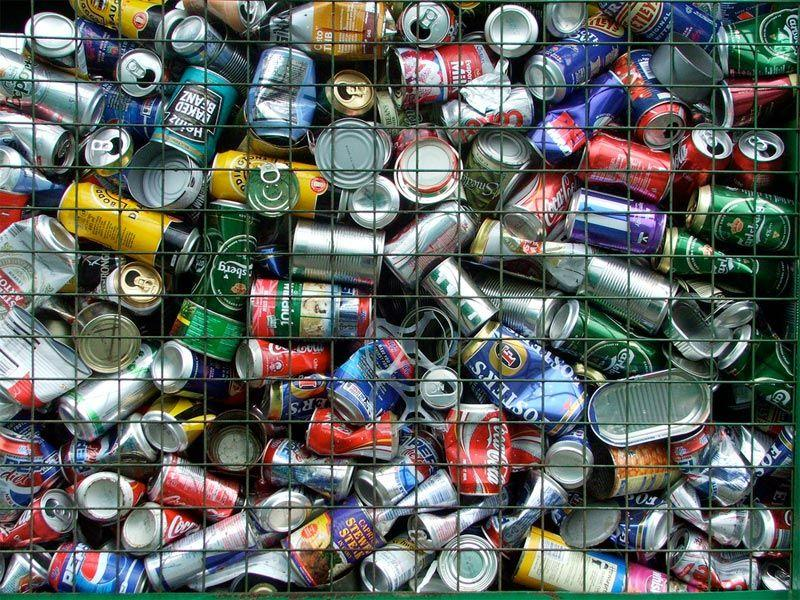lata: (50, 174, 208, 281), (50, 335, 176, 448), (138, 499, 277, 598), (514, 4, 635, 112), (594, 41, 701, 159), (375, 189, 486, 291), (400, 466, 513, 559), (0, 45, 112, 138), (346, 427, 451, 518), (144, 450, 249, 533), (574, 128, 679, 208), (682, 182, 796, 254), (561, 186, 669, 259), (445, 404, 511, 496), (233, 337, 333, 394), (48, 541, 148, 597)
